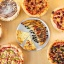pizza: (12, 18, 50, 51), (21, 1, 49, 17), (1, 43, 22, 64), (2, 1, 19, 22), (48, 41, 64, 63), (50, 10, 64, 33)
